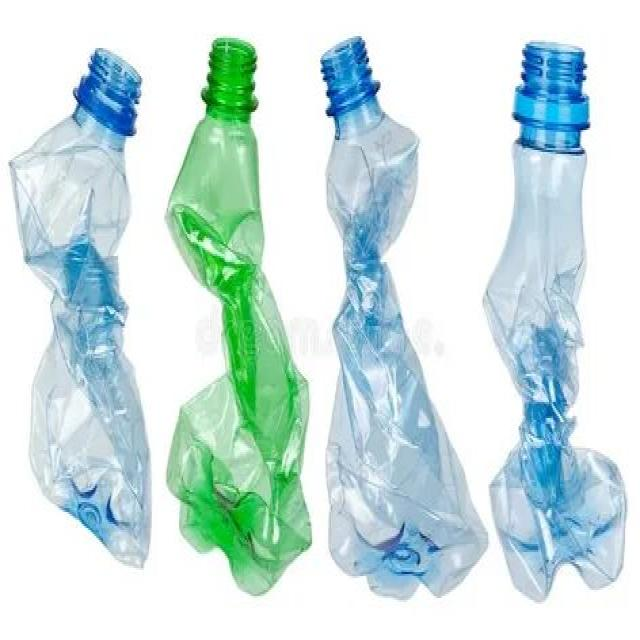blue: (316, 33, 490, 600), (484, 40, 626, 602), (8, 47, 152, 570)
green: (166, 33, 314, 602)
